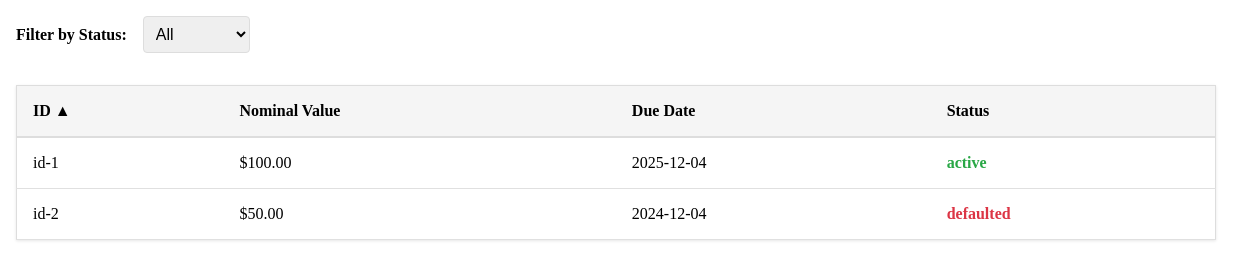
Test case: AssetsTable Component › filters assets by status
Check: the text "id-1" is shown, box [16,137,224,188]
Check: the text "id-2" is shown, box [16,188,224,240]
Select "Active" in the dropdown showing "All". click: (196, 34)
box: [143,16,250,53]
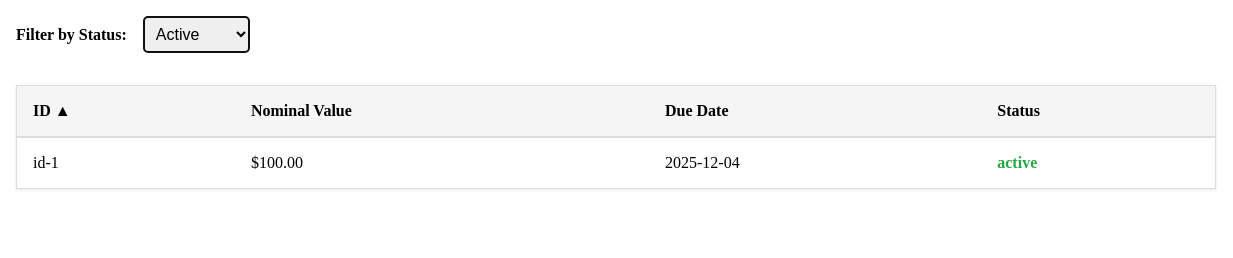
Check: the text "id-1" is shown, box [16,137,235,188]
Check: the text "id-2" is gone
